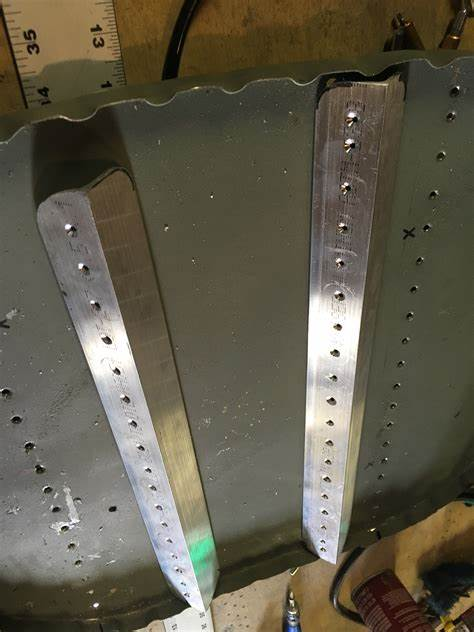hole: (343, 137, 363, 155), (344, 112, 363, 130), (336, 221, 353, 237), (1, 387, 16, 403), (334, 257, 349, 273), (339, 180, 354, 196), (64, 224, 79, 240), (448, 85, 463, 100), (23, 440, 37, 455), (435, 150, 450, 164), (333, 289, 347, 304), (78, 263, 92, 277), (427, 189, 440, 203), (119, 393, 133, 406), (90, 300, 104, 313), (34, 464, 49, 476), (444, 110, 457, 123), (101, 334, 114, 347), (10, 414, 24, 426), (328, 348, 342, 360), (399, 334, 411, 347), (407, 284, 420, 296), (331, 321, 344, 333), (326, 372, 339, 384), (320, 473, 333, 485), (127, 418, 139, 431), (49, 503, 63, 514), (396, 358, 408, 370), (414, 255, 426, 267), (326, 395, 338, 407), (42, 484, 55, 495), (404, 311, 416, 322), (324, 437, 336, 448), (135, 443, 147, 454), (111, 366, 123, 377), (108, 505, 120, 515), (388, 401, 400, 411), (322, 457, 334, 467), (61, 523, 72, 533), (159, 519, 170, 529), (154, 502, 165, 512), (164, 537, 176, 546), (67, 542, 78, 551), (381, 457, 392, 466), (320, 508, 331, 517), (423, 224, 432, 234), (325, 418, 335, 427), (149, 484, 159, 493), (144, 466, 154, 475), (182, 591, 193, 599), (385, 420, 394, 429), (74, 559, 84, 567), (376, 474, 386, 482), (382, 440, 392, 448), (319, 523, 329, 531), (175, 567, 185, 575), (170, 553, 180, 561), (178, 580, 189, 587), (393, 381, 401, 390), (322, 493, 330, 502), (319, 538, 327, 546), (319, 547, 328, 554), (93, 603, 101, 609)
